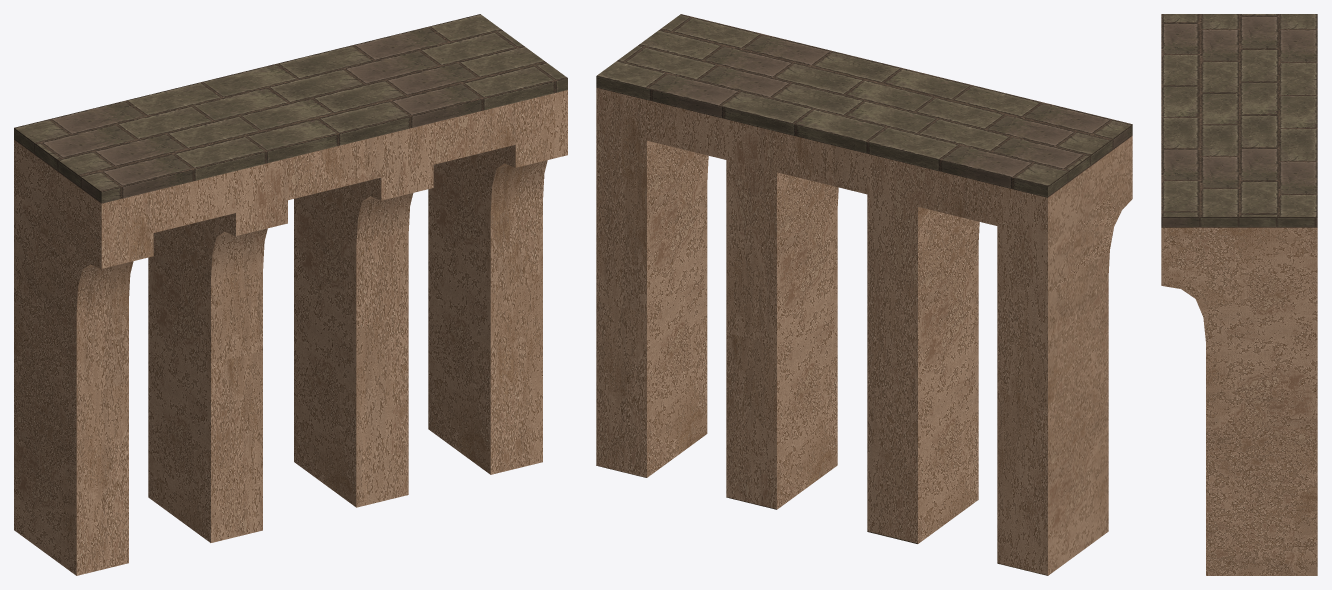
File: SewerSet4_Thin.fbx
3 renders of one model, left to right at view 1: azimuth 30°, elevation 25°; view 2: azimuth 150°, elevation 25°; view 3: azimuth 270°, elevation 25°, orthographic. The views are drawn at different scales.
Visible parts, largest first — view 1: Box083; view 2: Box083; view 3: Box083.
Boxes of the visible parts, x1,y1,x2,y2 form: Box083: [14, 14, 567, 575]; Box083: [596, 14, 1132, 575]; Box083: [1161, 14, 1317, 575].
Bounding box in the file's own units: 2500 × 2061 × 813.
